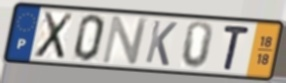0: (71, 13, 107, 64), (180, 20, 215, 72)
K: (143, 19, 179, 68)
N: (100, 15, 151, 66)
T: (221, 23, 252, 73)
X: (32, 10, 76, 61)
